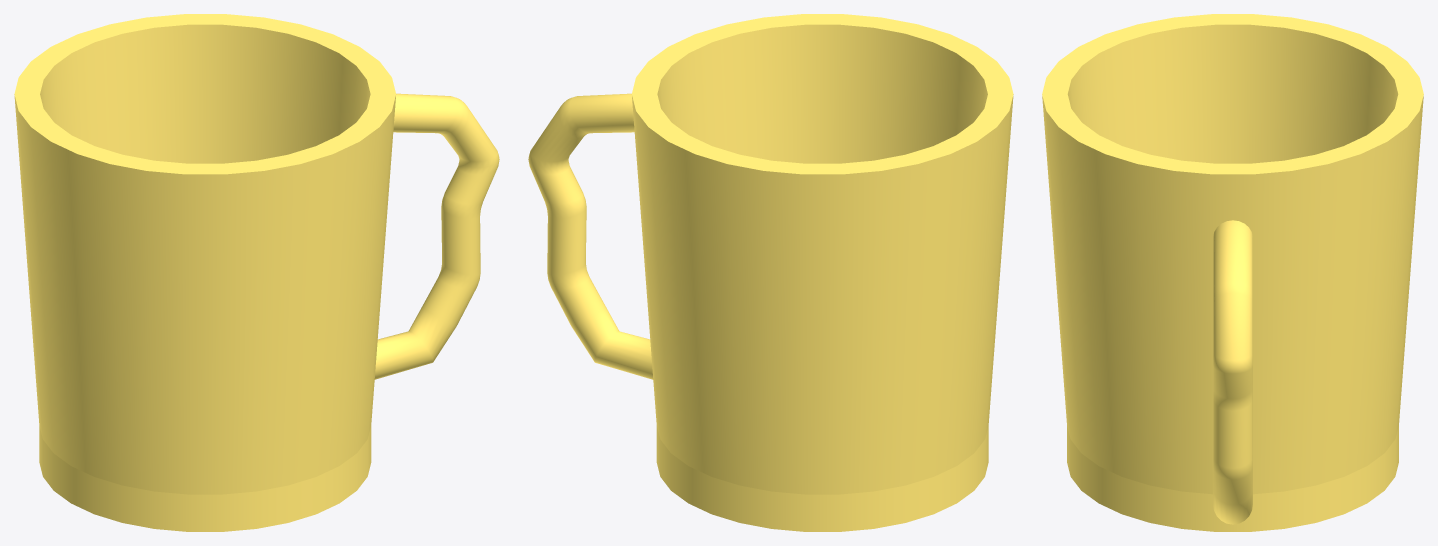
Rendered from mug_3.fbx.
3 views of the same model, side by side, from view 1: azimuth 30°, elevation 25°; view 2: azimuth 150°, elevation 25°; view 3: azimuth 270°, elevation 25° (orthographic).
Visible parts, largest first — view 1: MUG_03; view 2: MUG_03; view 3: MUG_03.
Part boxes in pixels (<box>): MUG_03: <box>14,14,499,531</box>; MUG_03: <box>528,14,1013,531</box>; MUG_03: <box>1042,14,1423,531</box>.
Size of the model in its own units: 25381 by 19568 by 18397.
